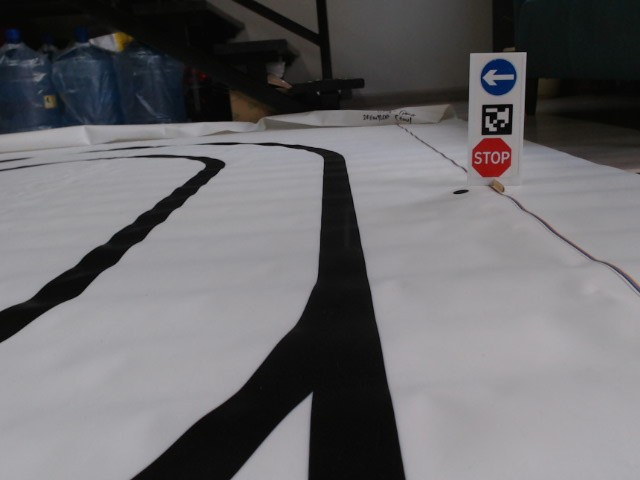Stop: (471, 136, 512, 178)
